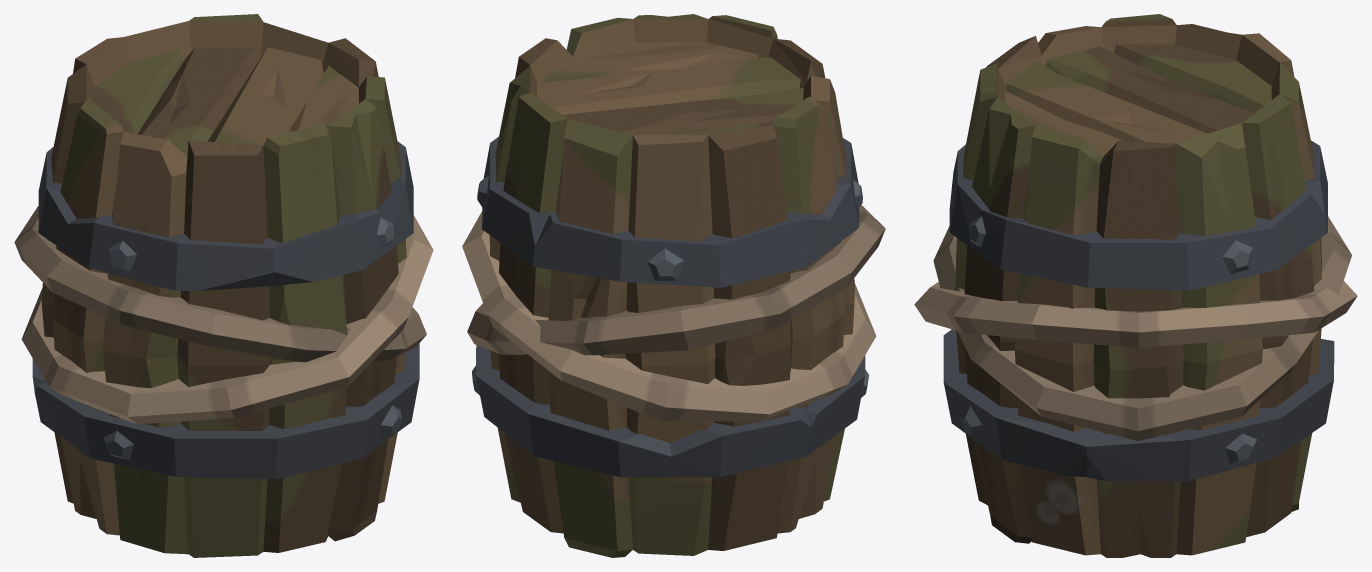
Rendered from SM_Prop_Barrel_03.fbx.
3 renders of one model, left to right at view 1: azimuth 30°, elevation 25°; view 2: azimuth 150°, elevation 25°; view 3: azimuth 270°, elevation 25°, orthographic.
Visible parts, largest first — view 1: SM_Prop_Barrel_03; view 2: SM_Prop_Barrel_03; view 3: SM_Prop_Barrel_03.
Part boxes in pixels (x1=…): SM_Prop_Barrel_03: x1=14, y1=14, x2=433, y2=557; SM_Prop_Barrel_03: x1=462, y1=14, x2=885, y2=557; SM_Prop_Barrel_03: x1=914, y1=14, x2=1357, y2=557.
Size of the model in its own units: 78.96 by 88.31 by 83.64.
